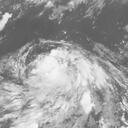cyclone: (22, 43, 102, 108)
